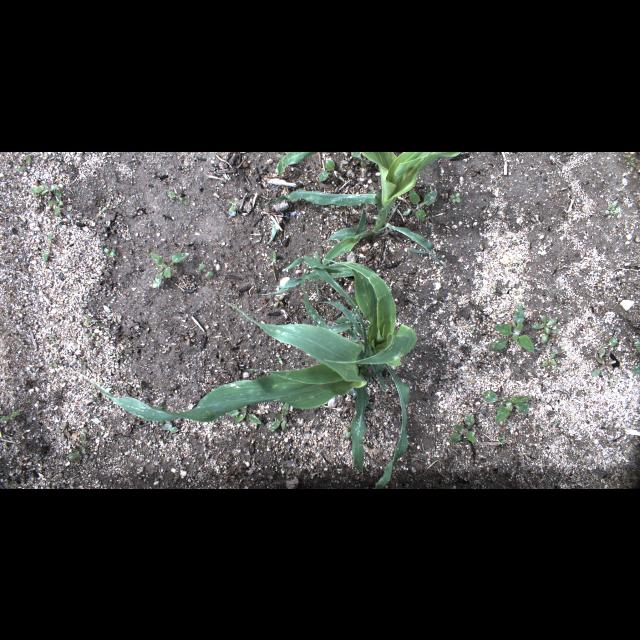crop: (78, 248, 416, 486), (268, 151, 462, 265), (276, 151, 316, 175)
weed: (488, 304, 534, 352), (481, 388, 535, 422), (150, 251, 190, 289), (403, 188, 437, 220), (592, 336, 618, 374), (449, 415, 477, 443), (532, 314, 558, 344), (226, 404, 262, 424), (268, 402, 292, 432), (317, 159, 347, 181), (67, 432, 87, 460), (29, 181, 59, 195), (47, 190, 63, 216), (167, 189, 189, 205), (198, 262, 216, 278), (57, 422, 71, 441), (43, 235, 53, 261), (540, 351, 556, 367), (604, 200, 620, 214), (17, 155, 31, 171), (1, 410, 22, 420), (84, 314, 98, 326), (228, 197, 236, 216), (268, 248, 278, 262), (625, 153, 635, 167), (451, 191, 461, 203), (48, 358, 58, 369), (85, 326, 96, 336), (104, 248, 116, 256), (634, 338, 640, 352), (634, 362, 640, 374), (498, 435, 504, 445), (278, 356, 284, 366), (50, 334, 58, 340)
